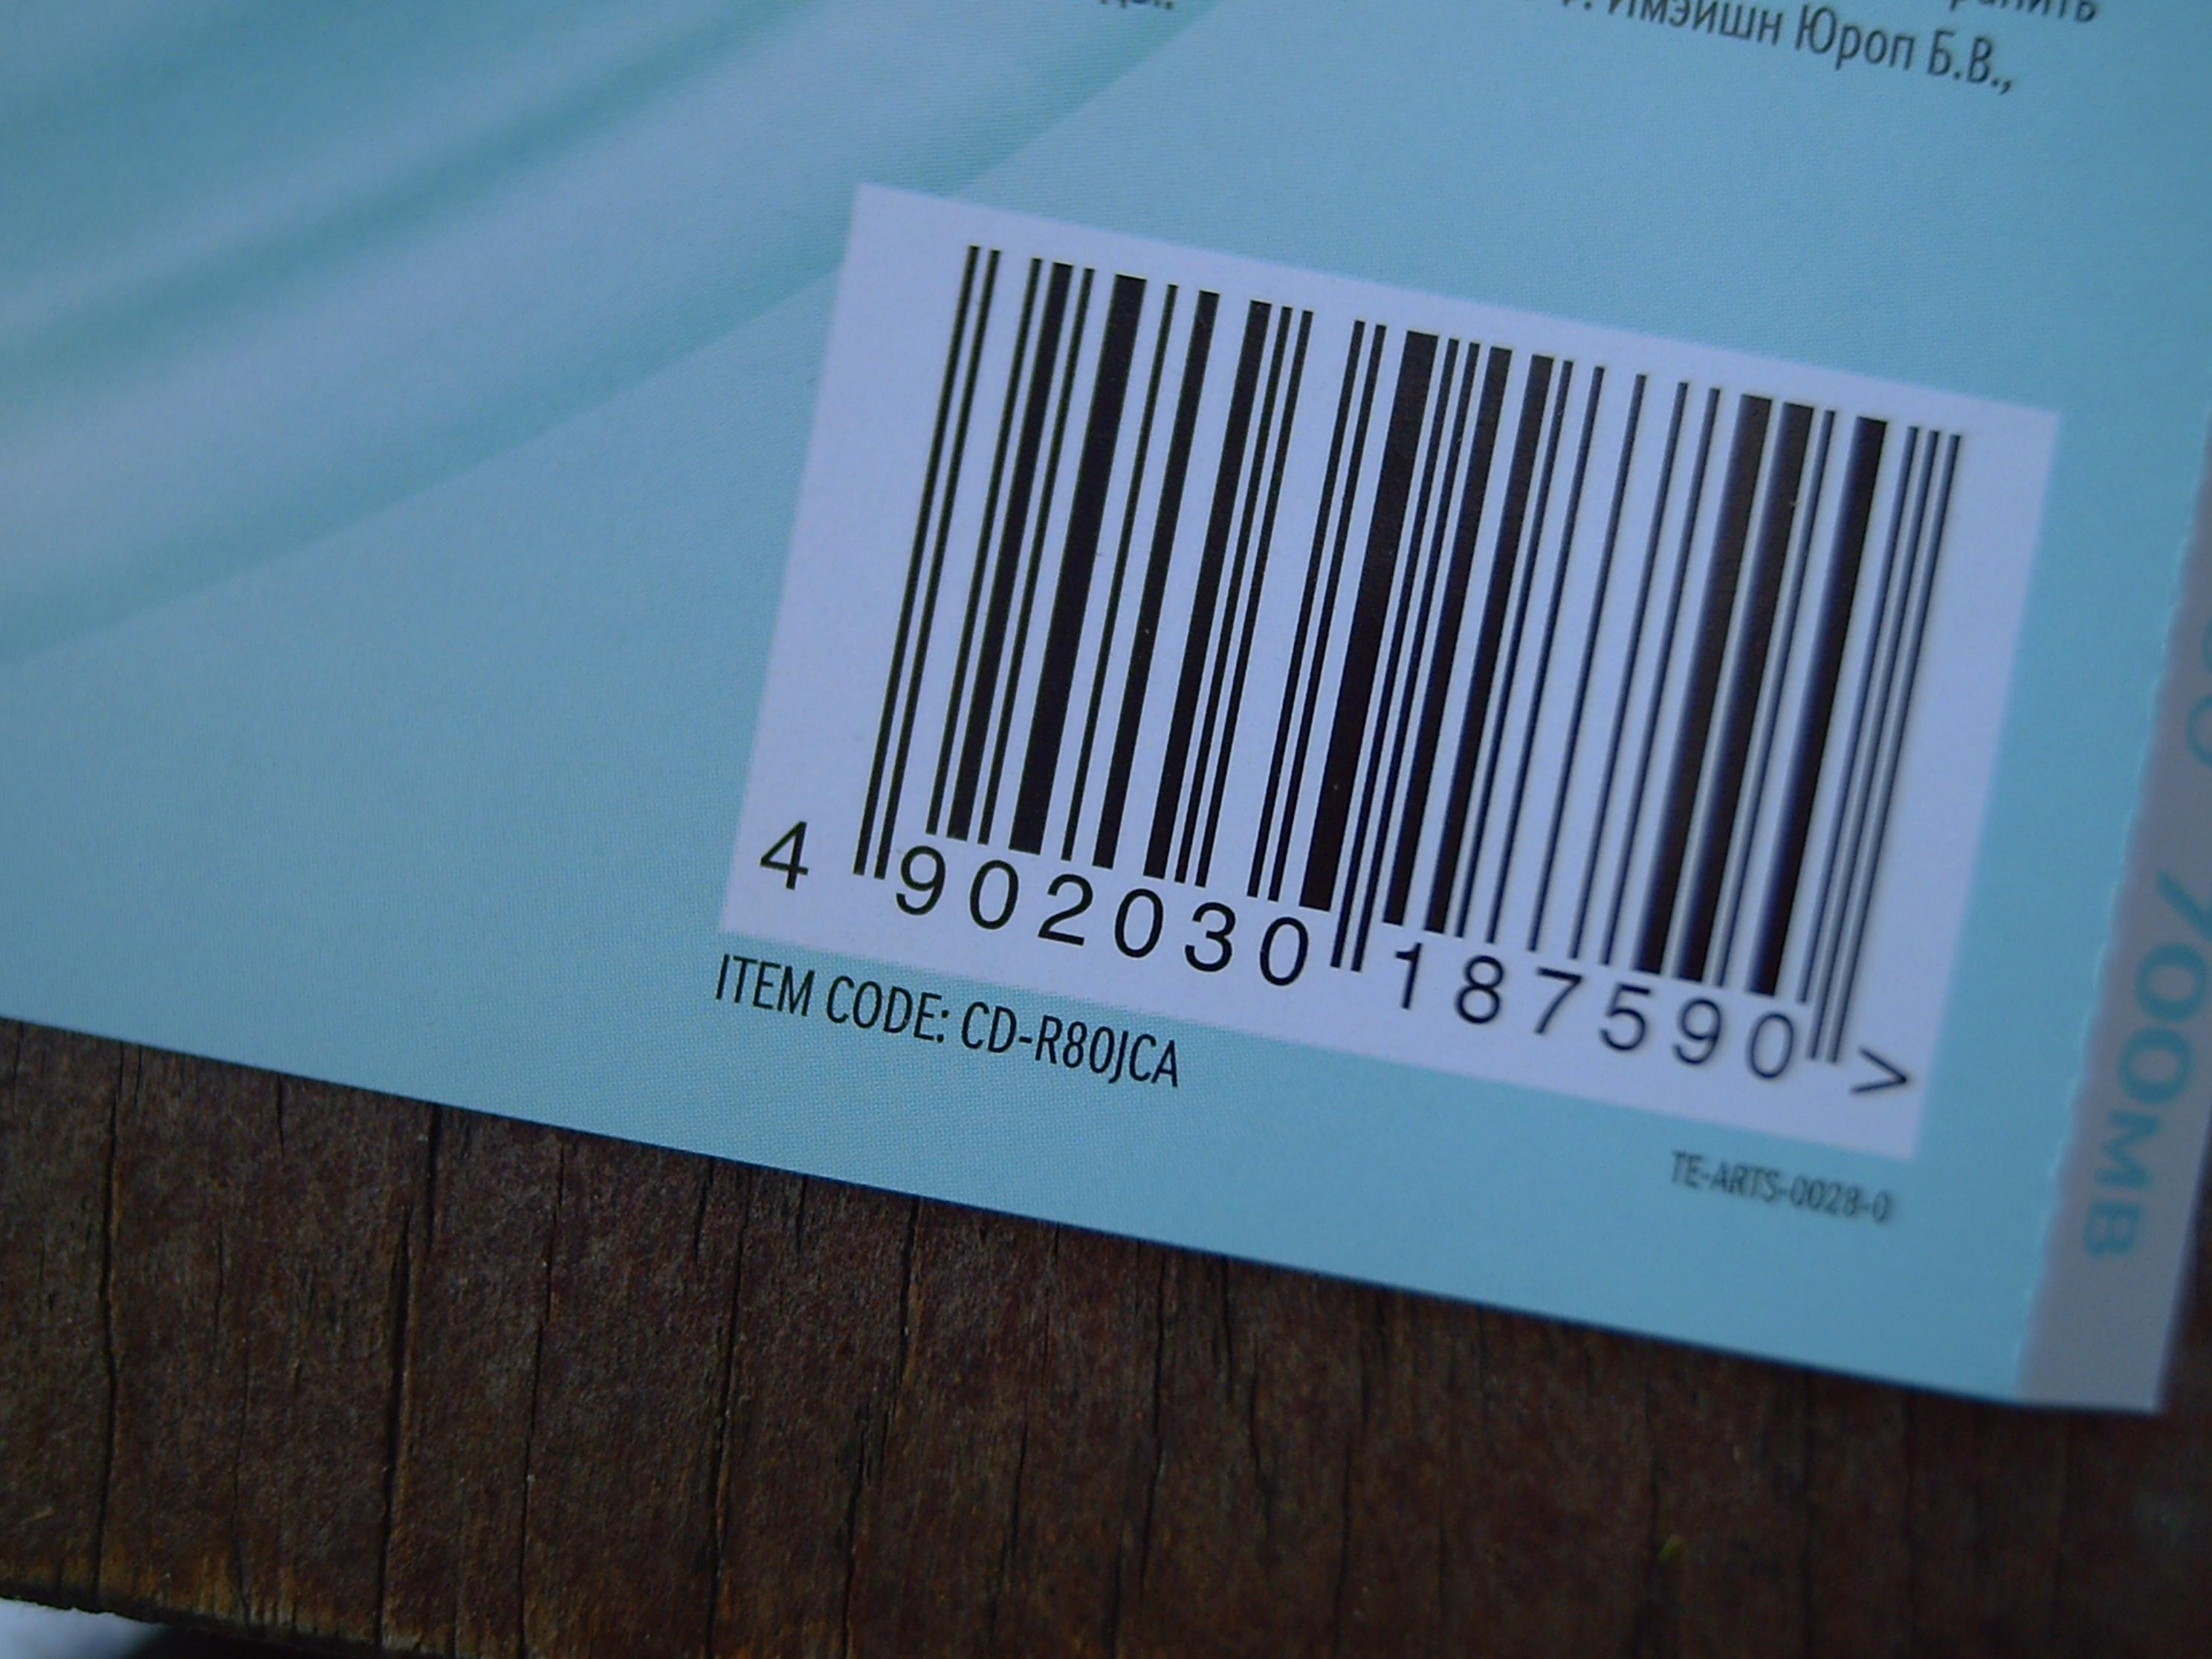barcode: (725, 174, 2057, 1157)
